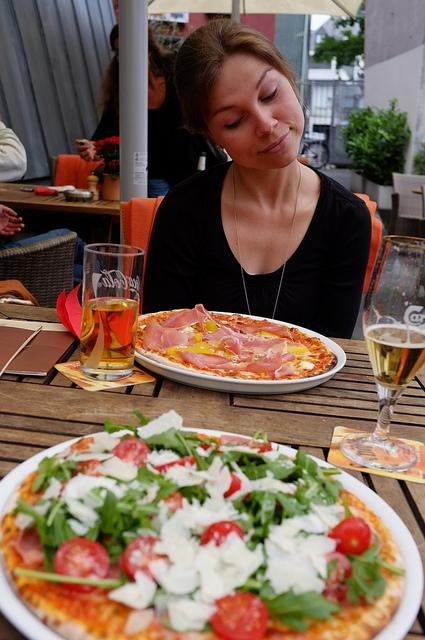tomato: (52, 538, 110, 594), (210, 592, 268, 640), (121, 536, 169, 585), (328, 517, 370, 555), (322, 552, 352, 602), (110, 439, 150, 469), (219, 468, 250, 501), (71, 459, 104, 478), (154, 457, 195, 472), (164, 491, 182, 513), (251, 442, 272, 452)
